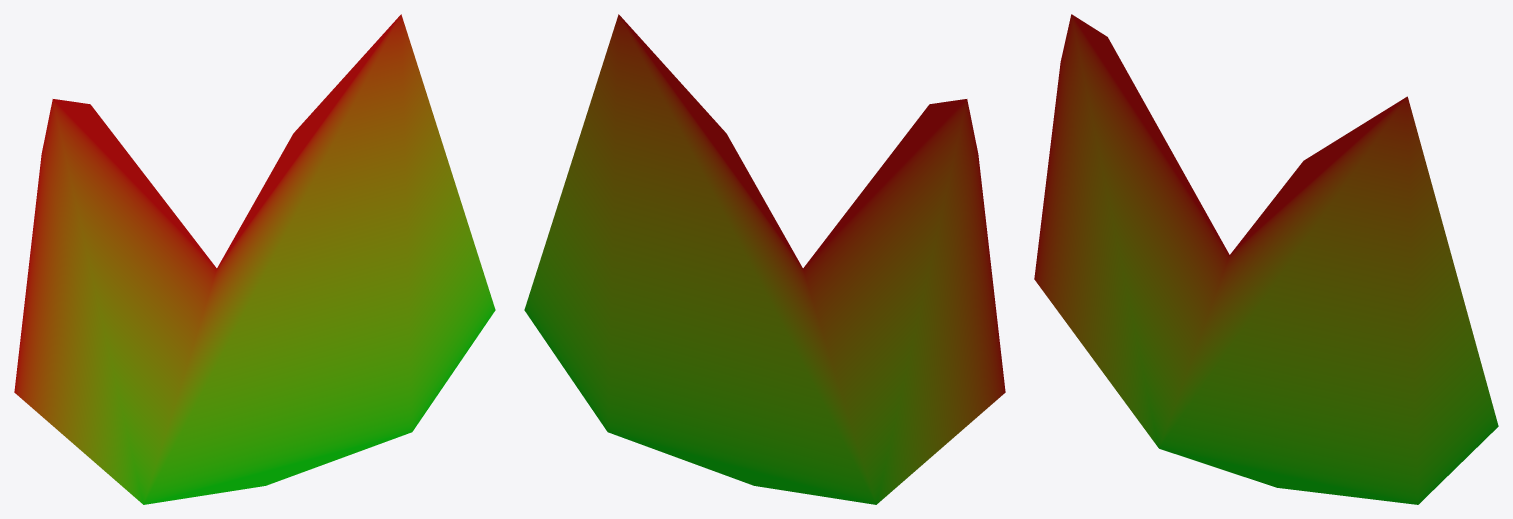
The model's file is Thatching Grass_LOD4_Var4_uddmcgbia.fbx.
3 views of the same model, side by side, from view 1: azimuth 30°, elevation 25°; view 2: azimuth 150°, elevation 25°; view 3: azimuth 330°, elevation 25° (orthographic). The views are drawn at different scales.
Parts seen in each view (by area): view 1: _1d35_Var4_LOD4; view 2: _1d35_Var4_LOD4; view 3: _1d35_Var4_LOD4.
Boxes of the visible parts, x1,y1,x2,y2 form: _1d35_Var4_LOD4: [14, 14, 495, 504]; _1d35_Var4_LOD4: [524, 14, 1005, 504]; _1d35_Var4_LOD4: [1034, 14, 1498, 504].
Size of the model in its own units: 42.09 by 36.7 by 3.34e-06.
